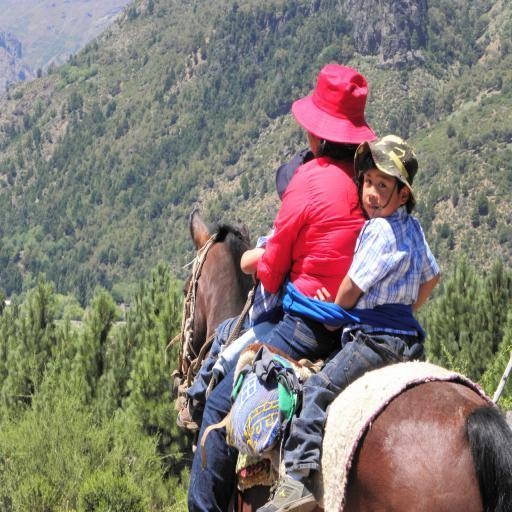horse: (172, 208, 512, 512)
